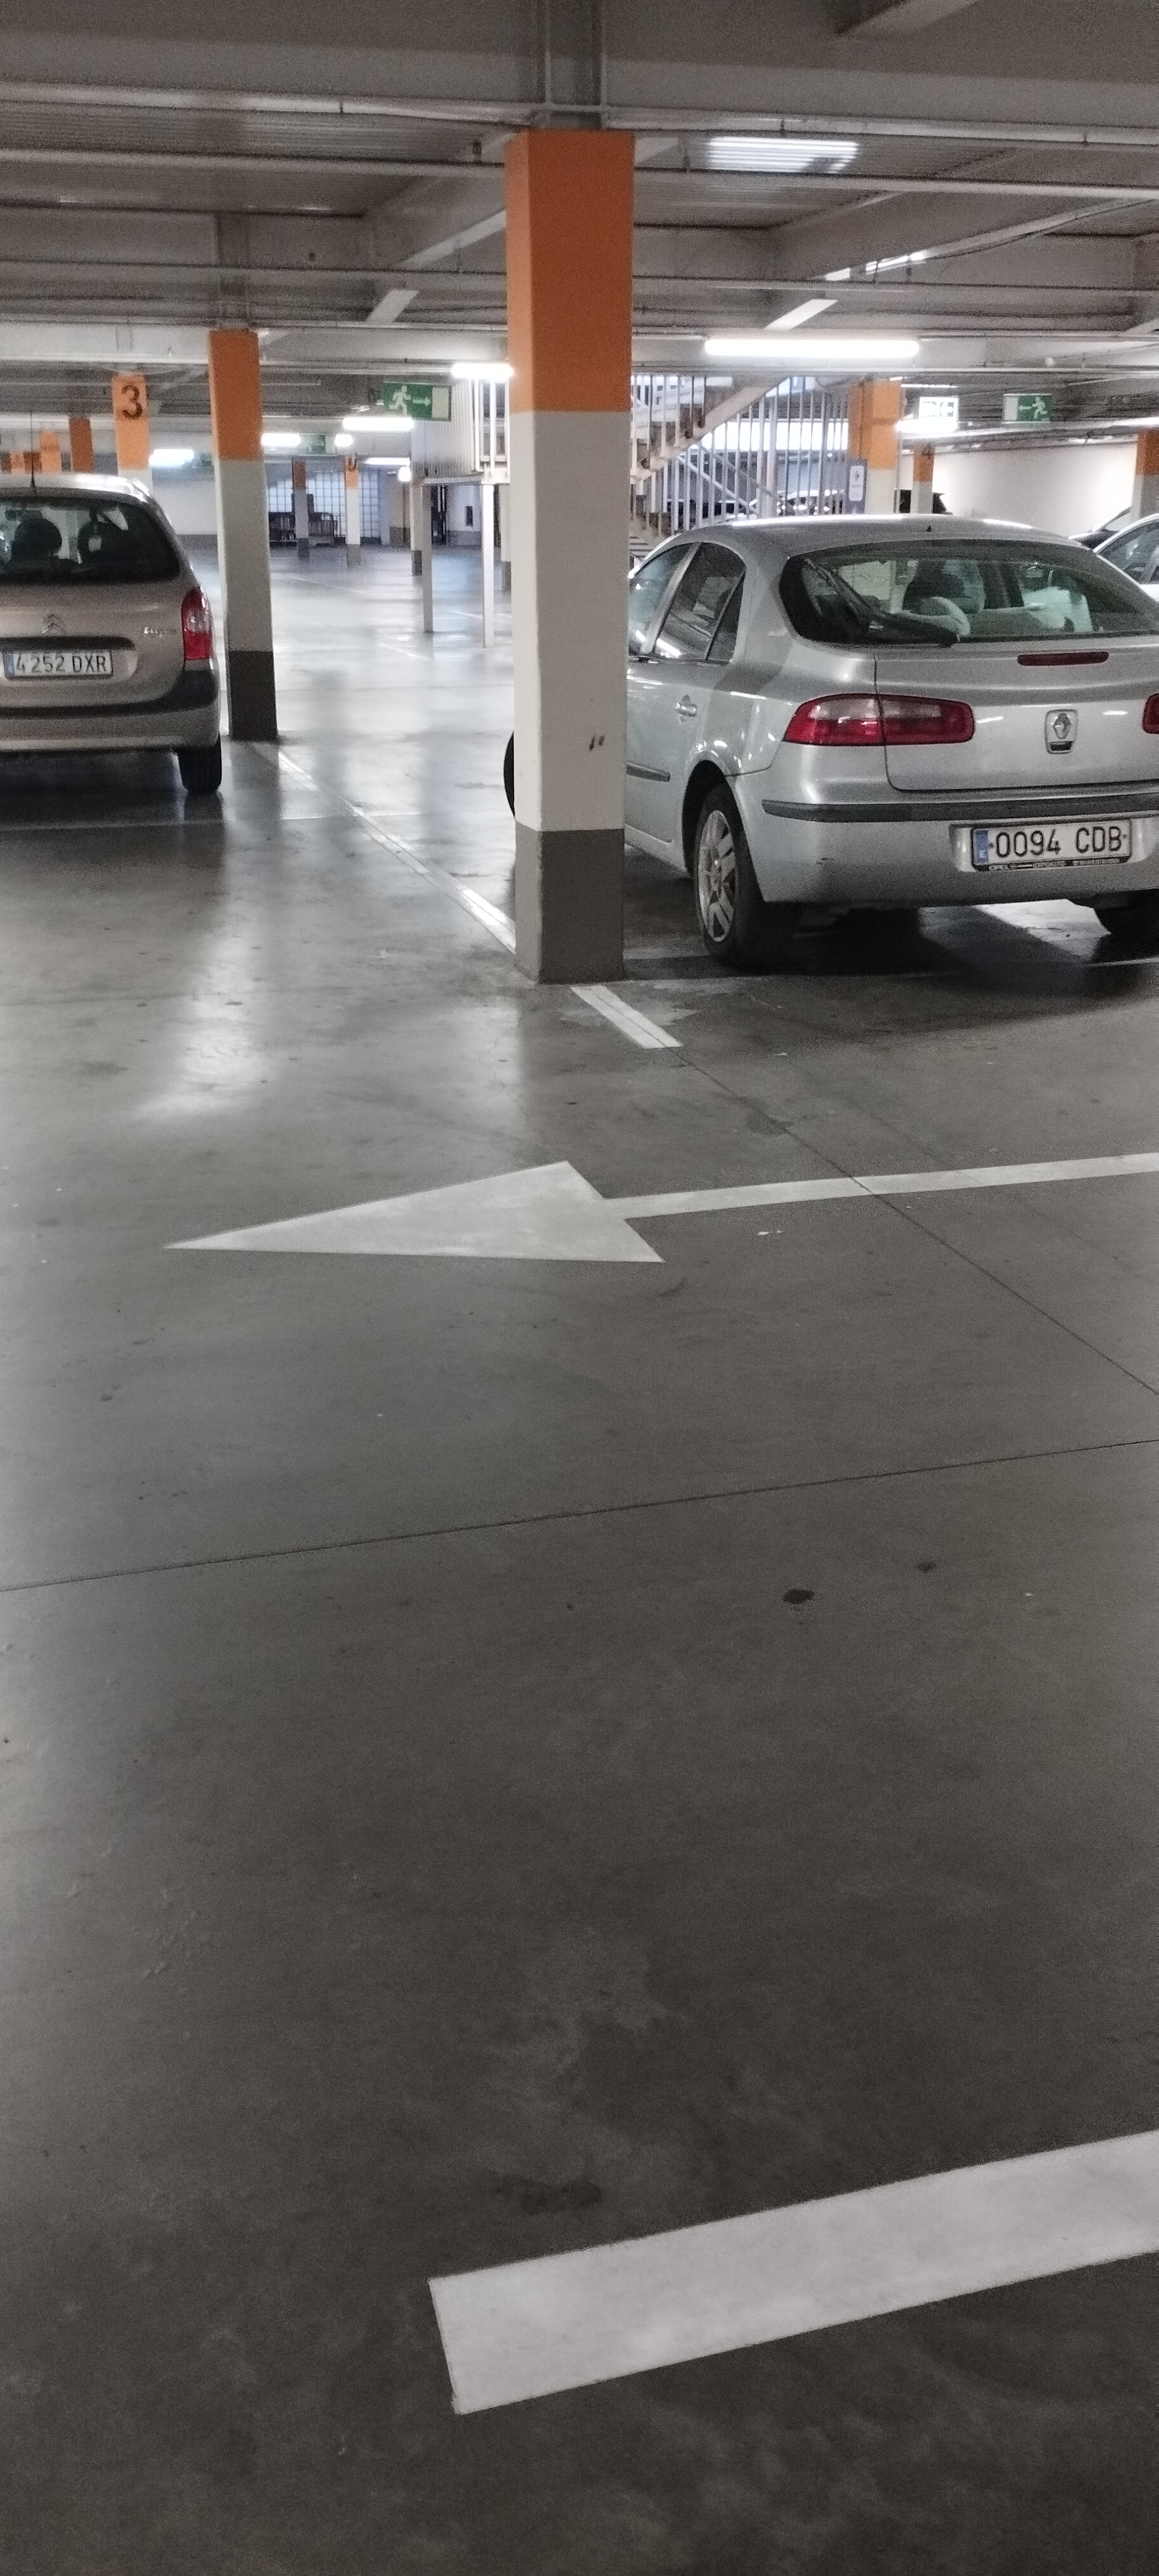Car: (528, 508, 1158, 951), (0, 484, 210, 781)
Plate: (975, 822, 1133, 873), (0, 647, 111, 673)
